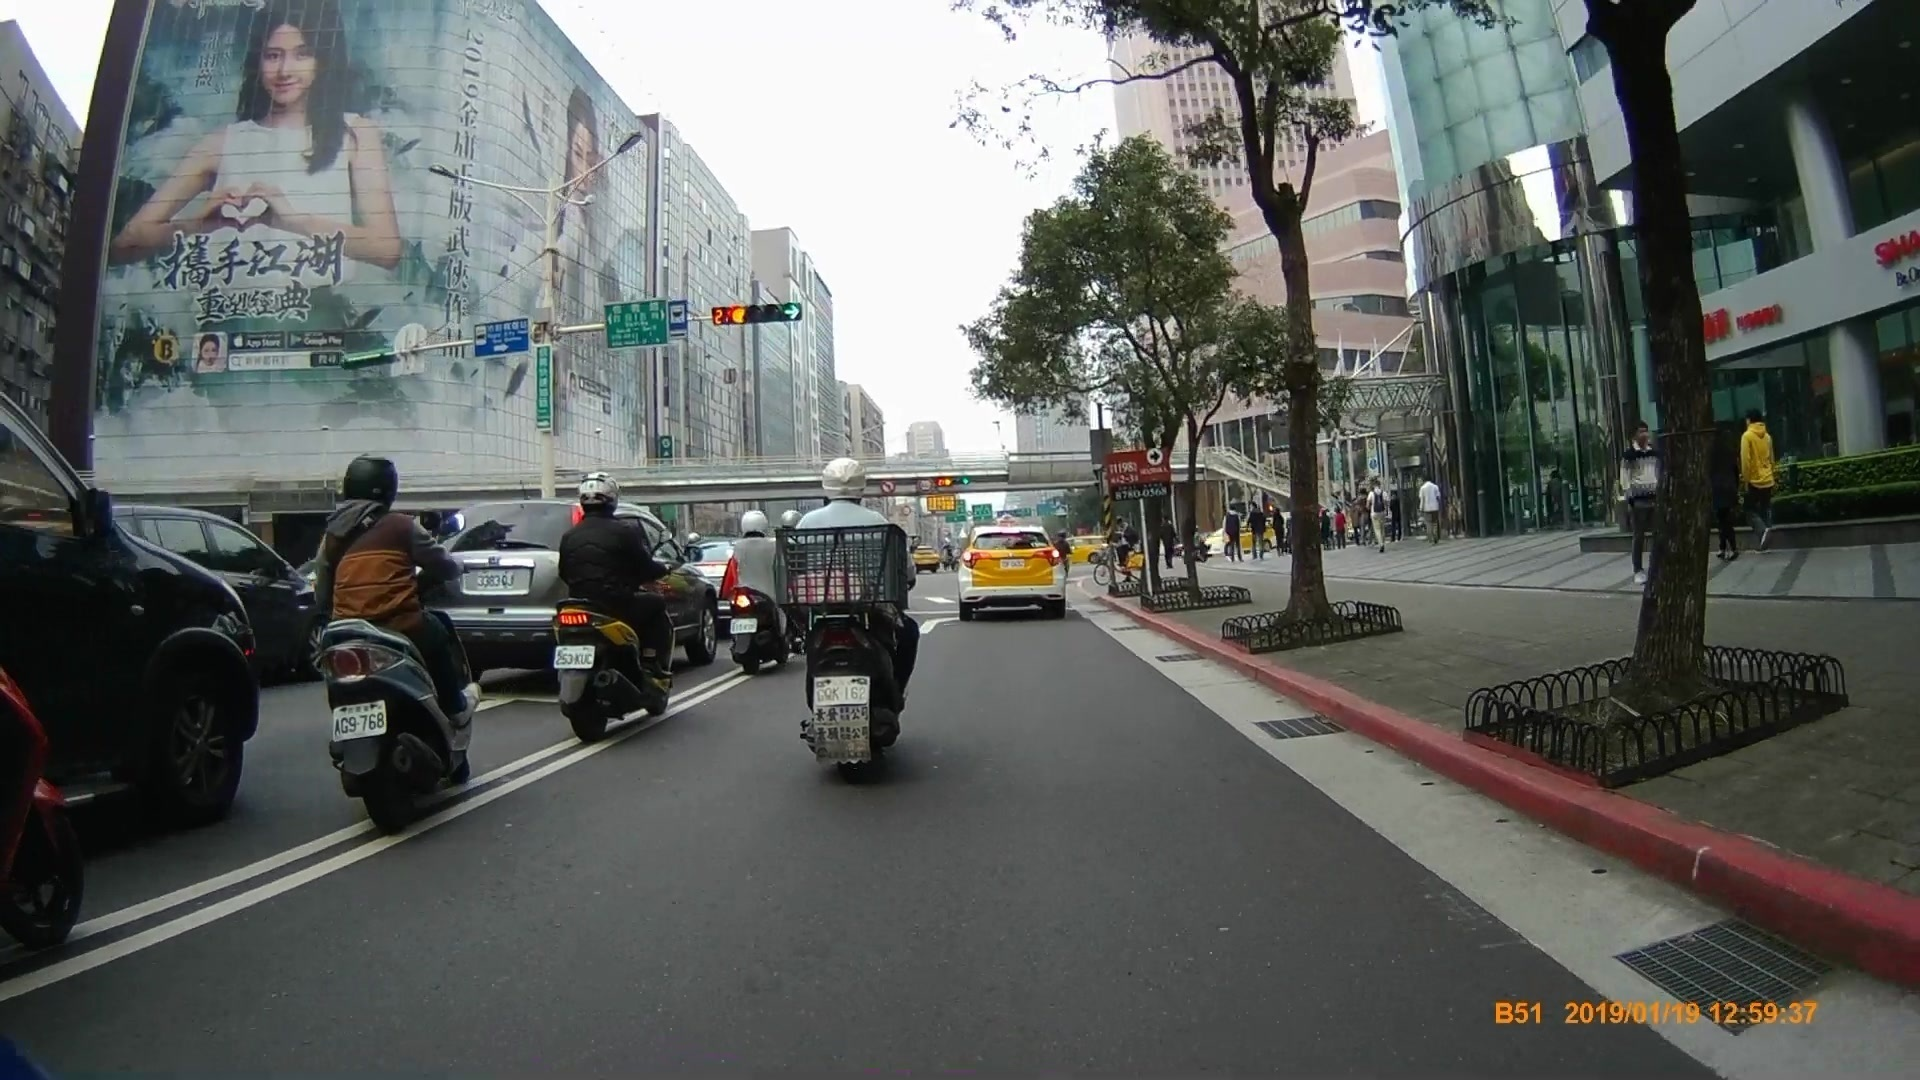License_plate: (323, 695, 394, 740), (806, 675, 873, 706), (551, 641, 596, 672)
